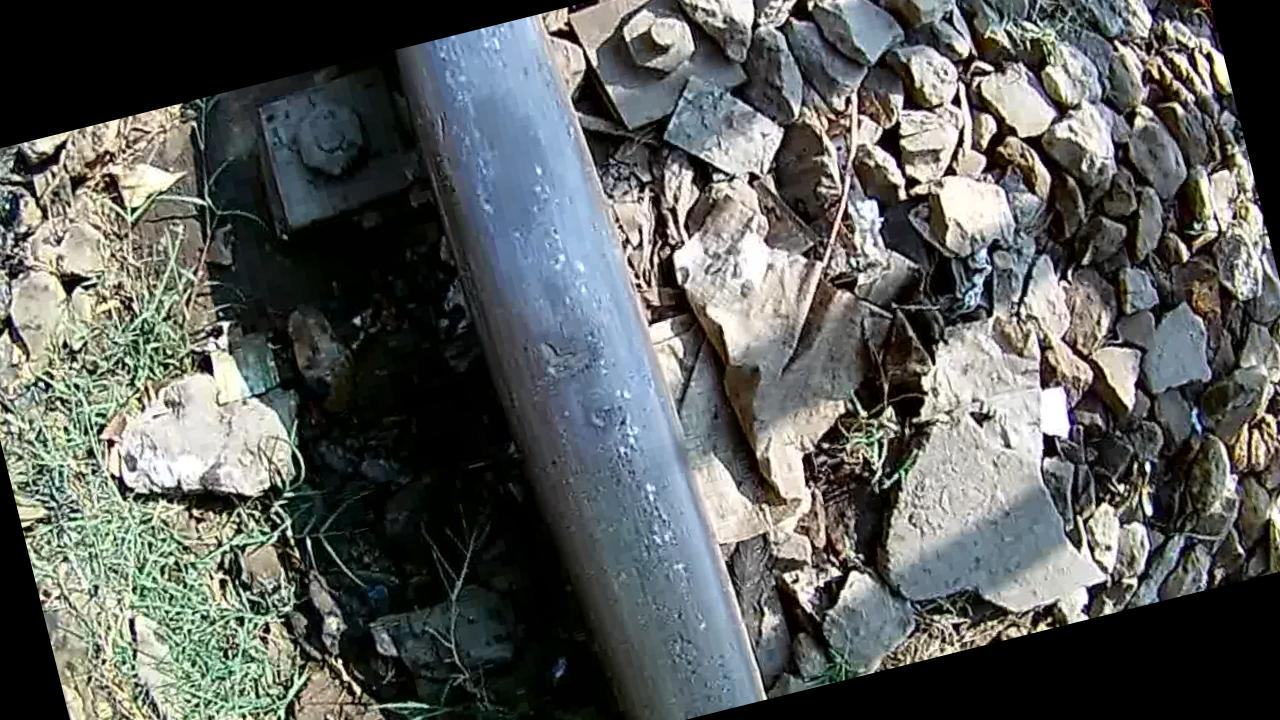bolt_missing: (402, 8, 740, 720)
